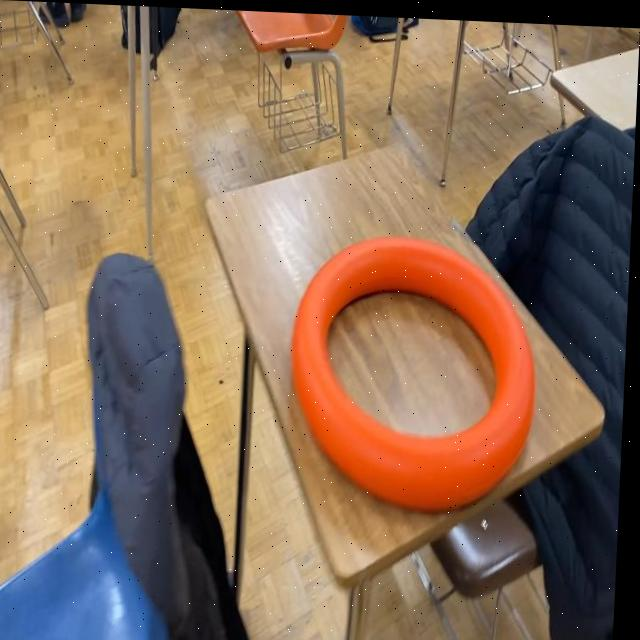note: (288, 223, 545, 513)
